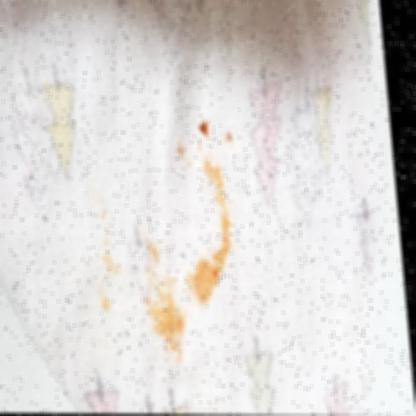kimchi: (200, 162, 252, 254), (140, 273, 188, 354), (192, 258, 234, 307), (94, 212, 120, 276), (190, 110, 213, 136), (145, 238, 163, 266), (221, 124, 238, 144), (173, 143, 187, 159), (101, 297, 110, 312)
